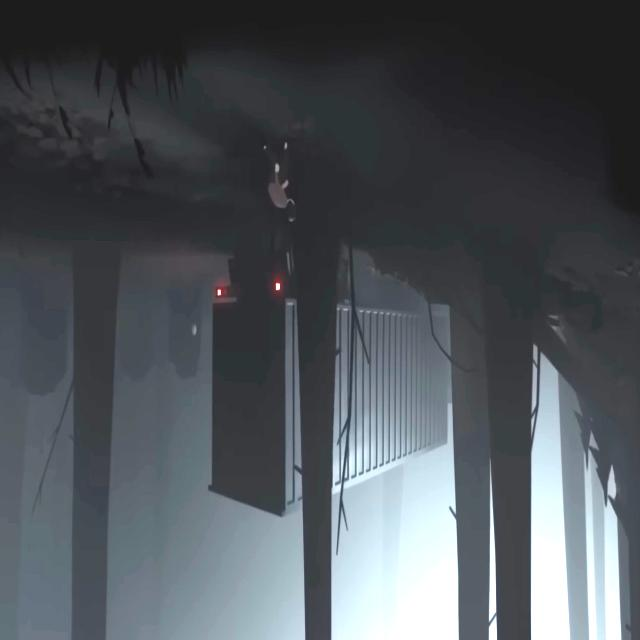boy: (262, 137, 296, 223)
